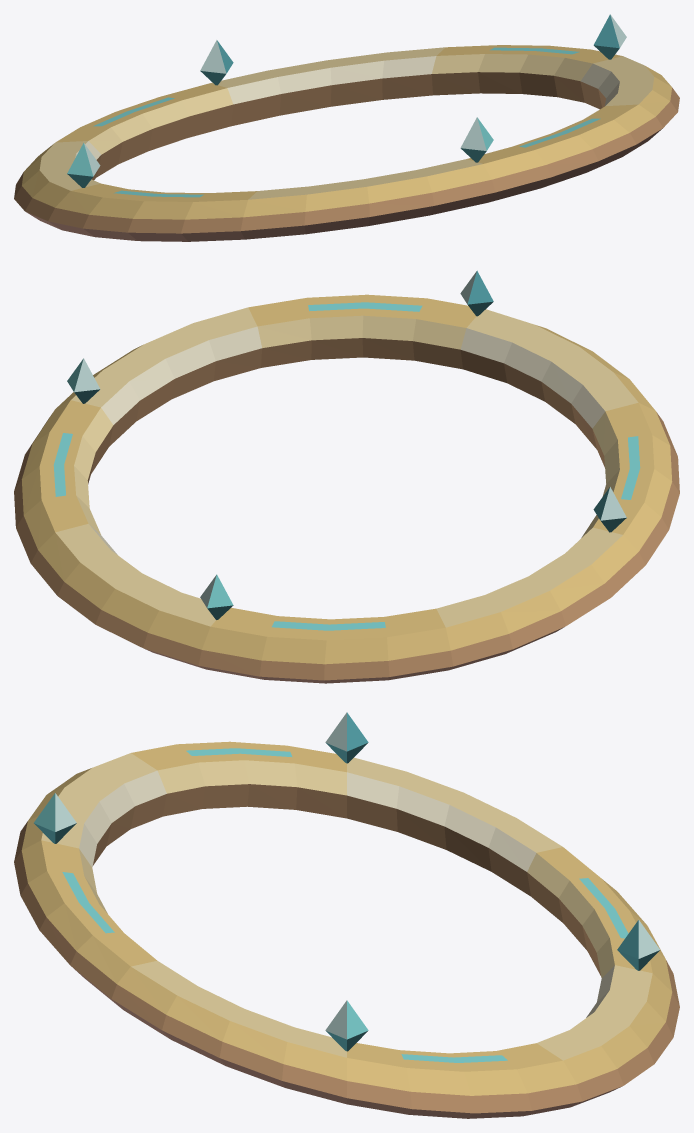
File: halo.glb
The picture shows the model from 3 angles, top to bottom: view 1: azimuth 30°, elevation 25°; view 2: azimuth 150°, elevation 25°; view 3: azimuth 270°, elevation 25°; orthographic projection. The views are drawn at different scales.
Visible parts, largest first — view 1: halo_ring; view 2: halo_ring; view 3: halo_ring.
Boxes of the visible parts, x1,y1,x2,y2 form: halo_ring: (14, 14, 679, 241); halo_ring: (14, 270, 679, 683); halo_ring: (14, 712, 679, 1118).
Bounding box in the file's own units: 11.06 × 3.55 × 9.52.
